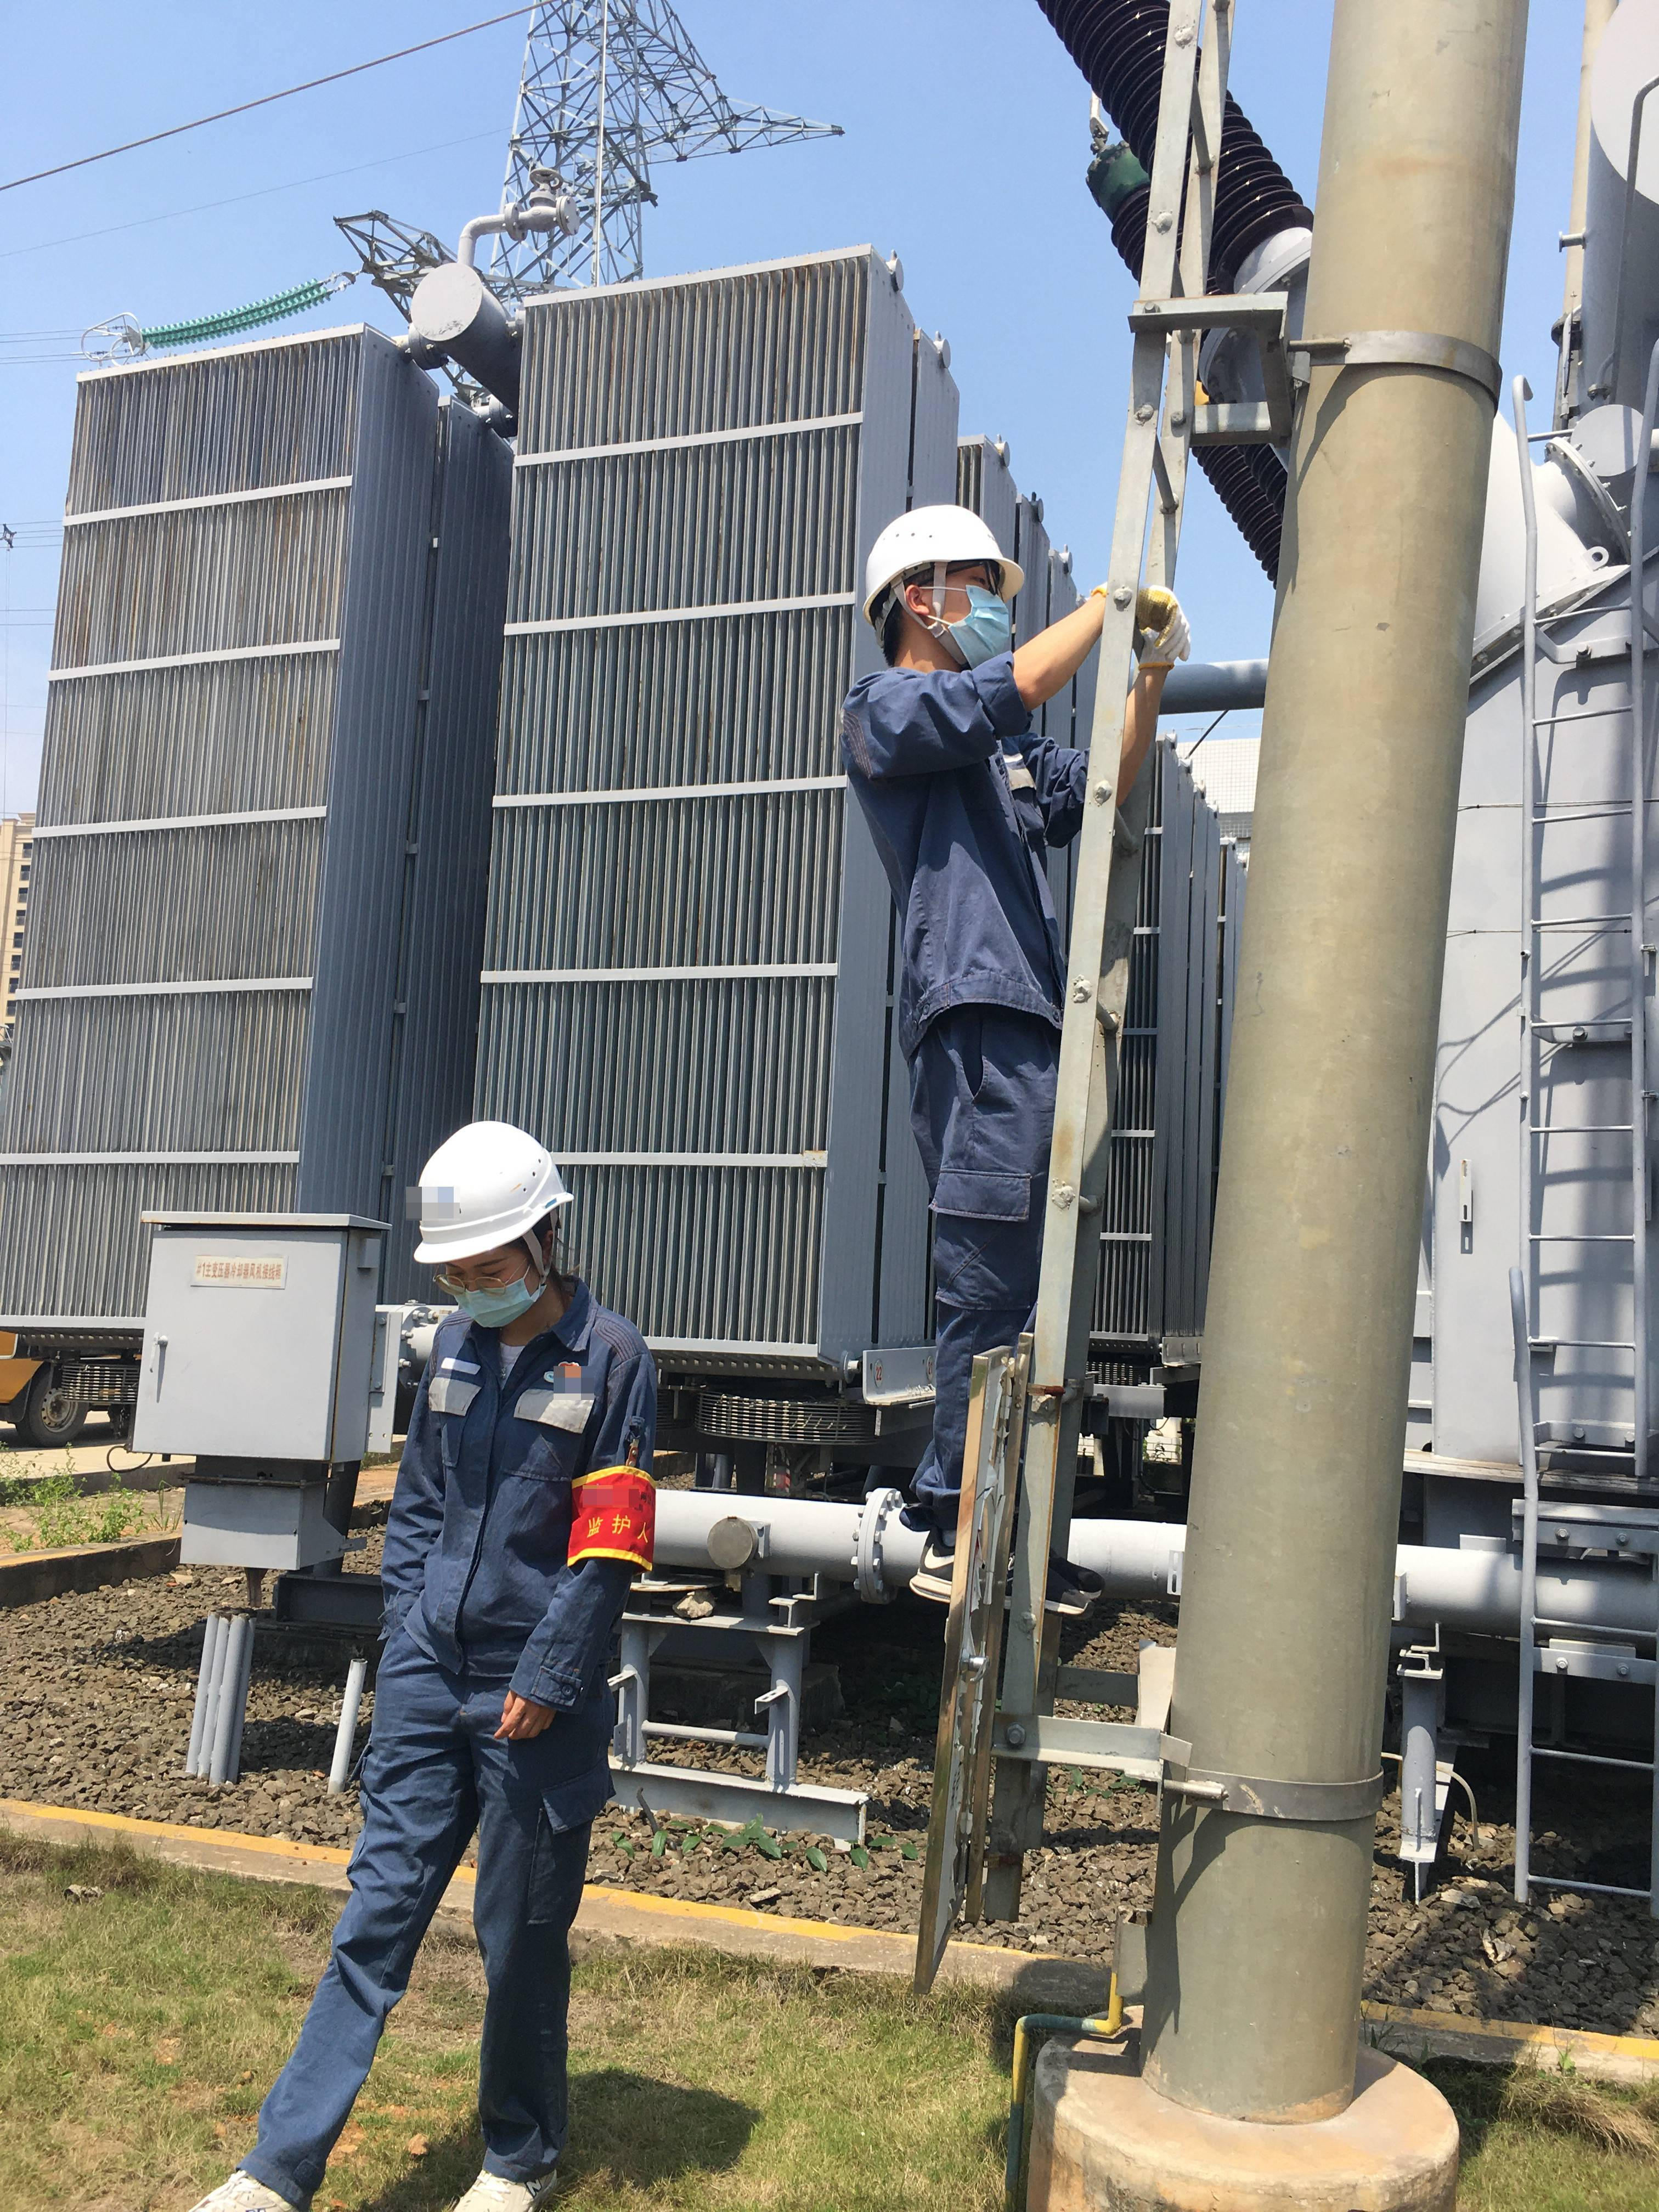downsuit: (258, 1712, 620, 2186), (903, 1035, 1049, 1538)
upsuit: (364, 1299, 667, 1670), (830, 651, 1091, 1022)
wrongtop: (972, 597, 1173, 808)
